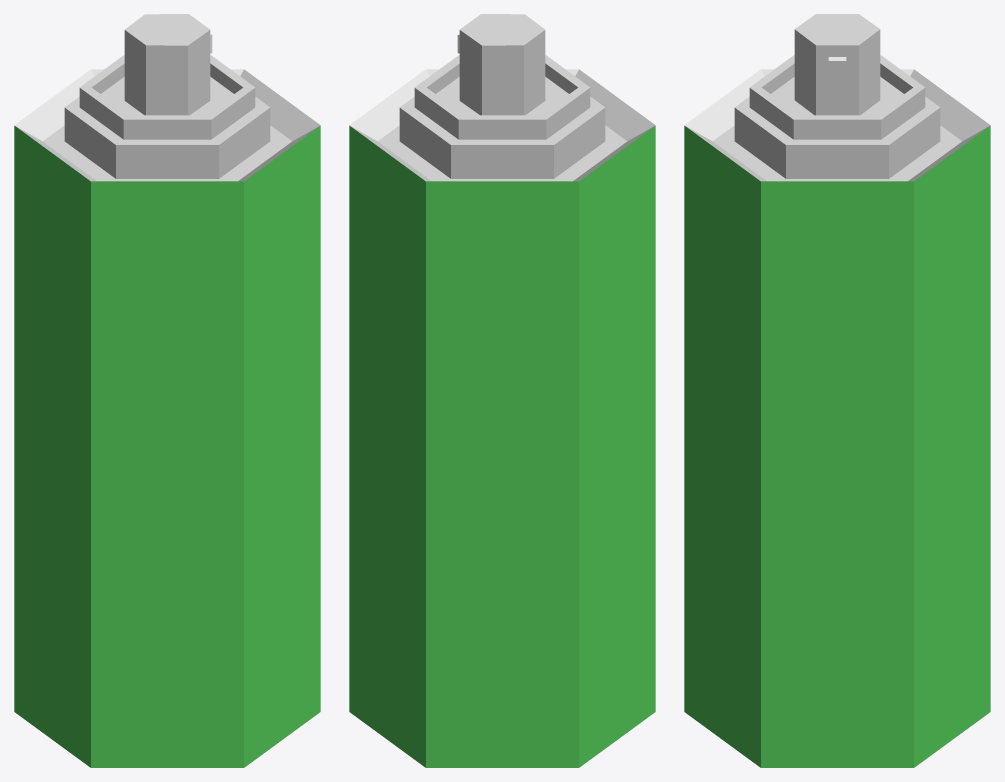
File: paint_spray.fbx
3 renders of one model, left to right at view 1: azimuth 30°, elevation 25°; view 2: azimuth 150°, elevation 25°; view 3: azimuth 270°, elevation 25°, orthographic.
Visible parts, largest first — view 1: Cylinder; view 2: Cylinder; view 3: Cylinder.
Part boxes in pixels (left/top/right/bottom): Cylinder: left=14, top=14, right=320, bottom=767; Cylinder: left=349, top=14, right=655, bottom=767; Cylinder: left=684, top=14, right=990, bottom=767.
Bounding box in the file's own units: 173 × 491 × 200.
